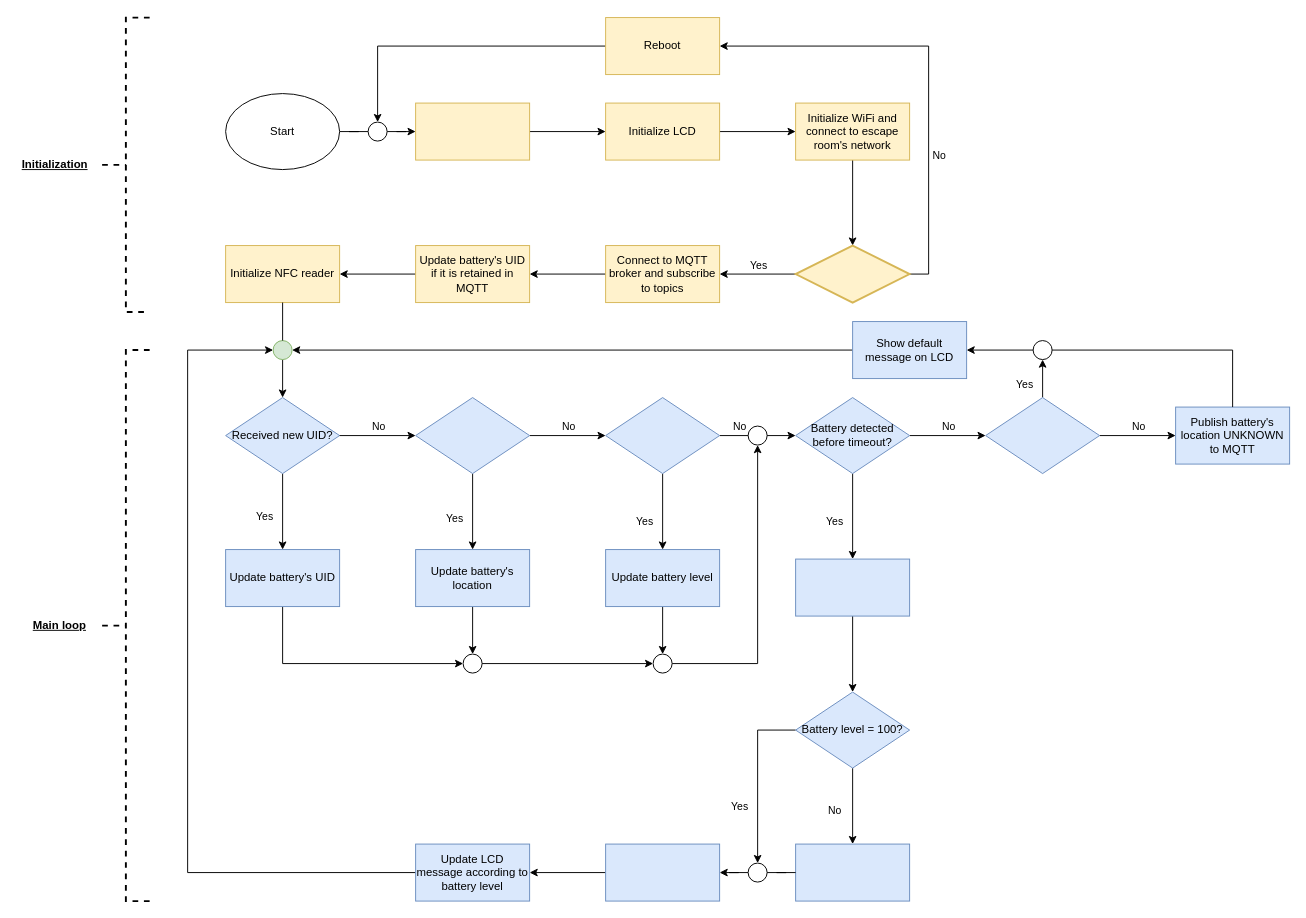
Image size: 1306x918. Some labels were removed from this diagram. Each missing label, with the box of its shape:
Battery location = CHARGER?: (985, 397, 1100, 474)
connected?: (794, 244, 910, 303)
Increase battery level by 10: (795, 843, 910, 901)
Initialize serial: (415, 102, 530, 160)
Publish battery level to MQTT: (605, 843, 720, 901)
Publish battery's location CHARGER to MQTT: (795, 558, 910, 616)
Received new battery level?: (415, 397, 530, 474)
Received new battery location?: (605, 397, 720, 474)
